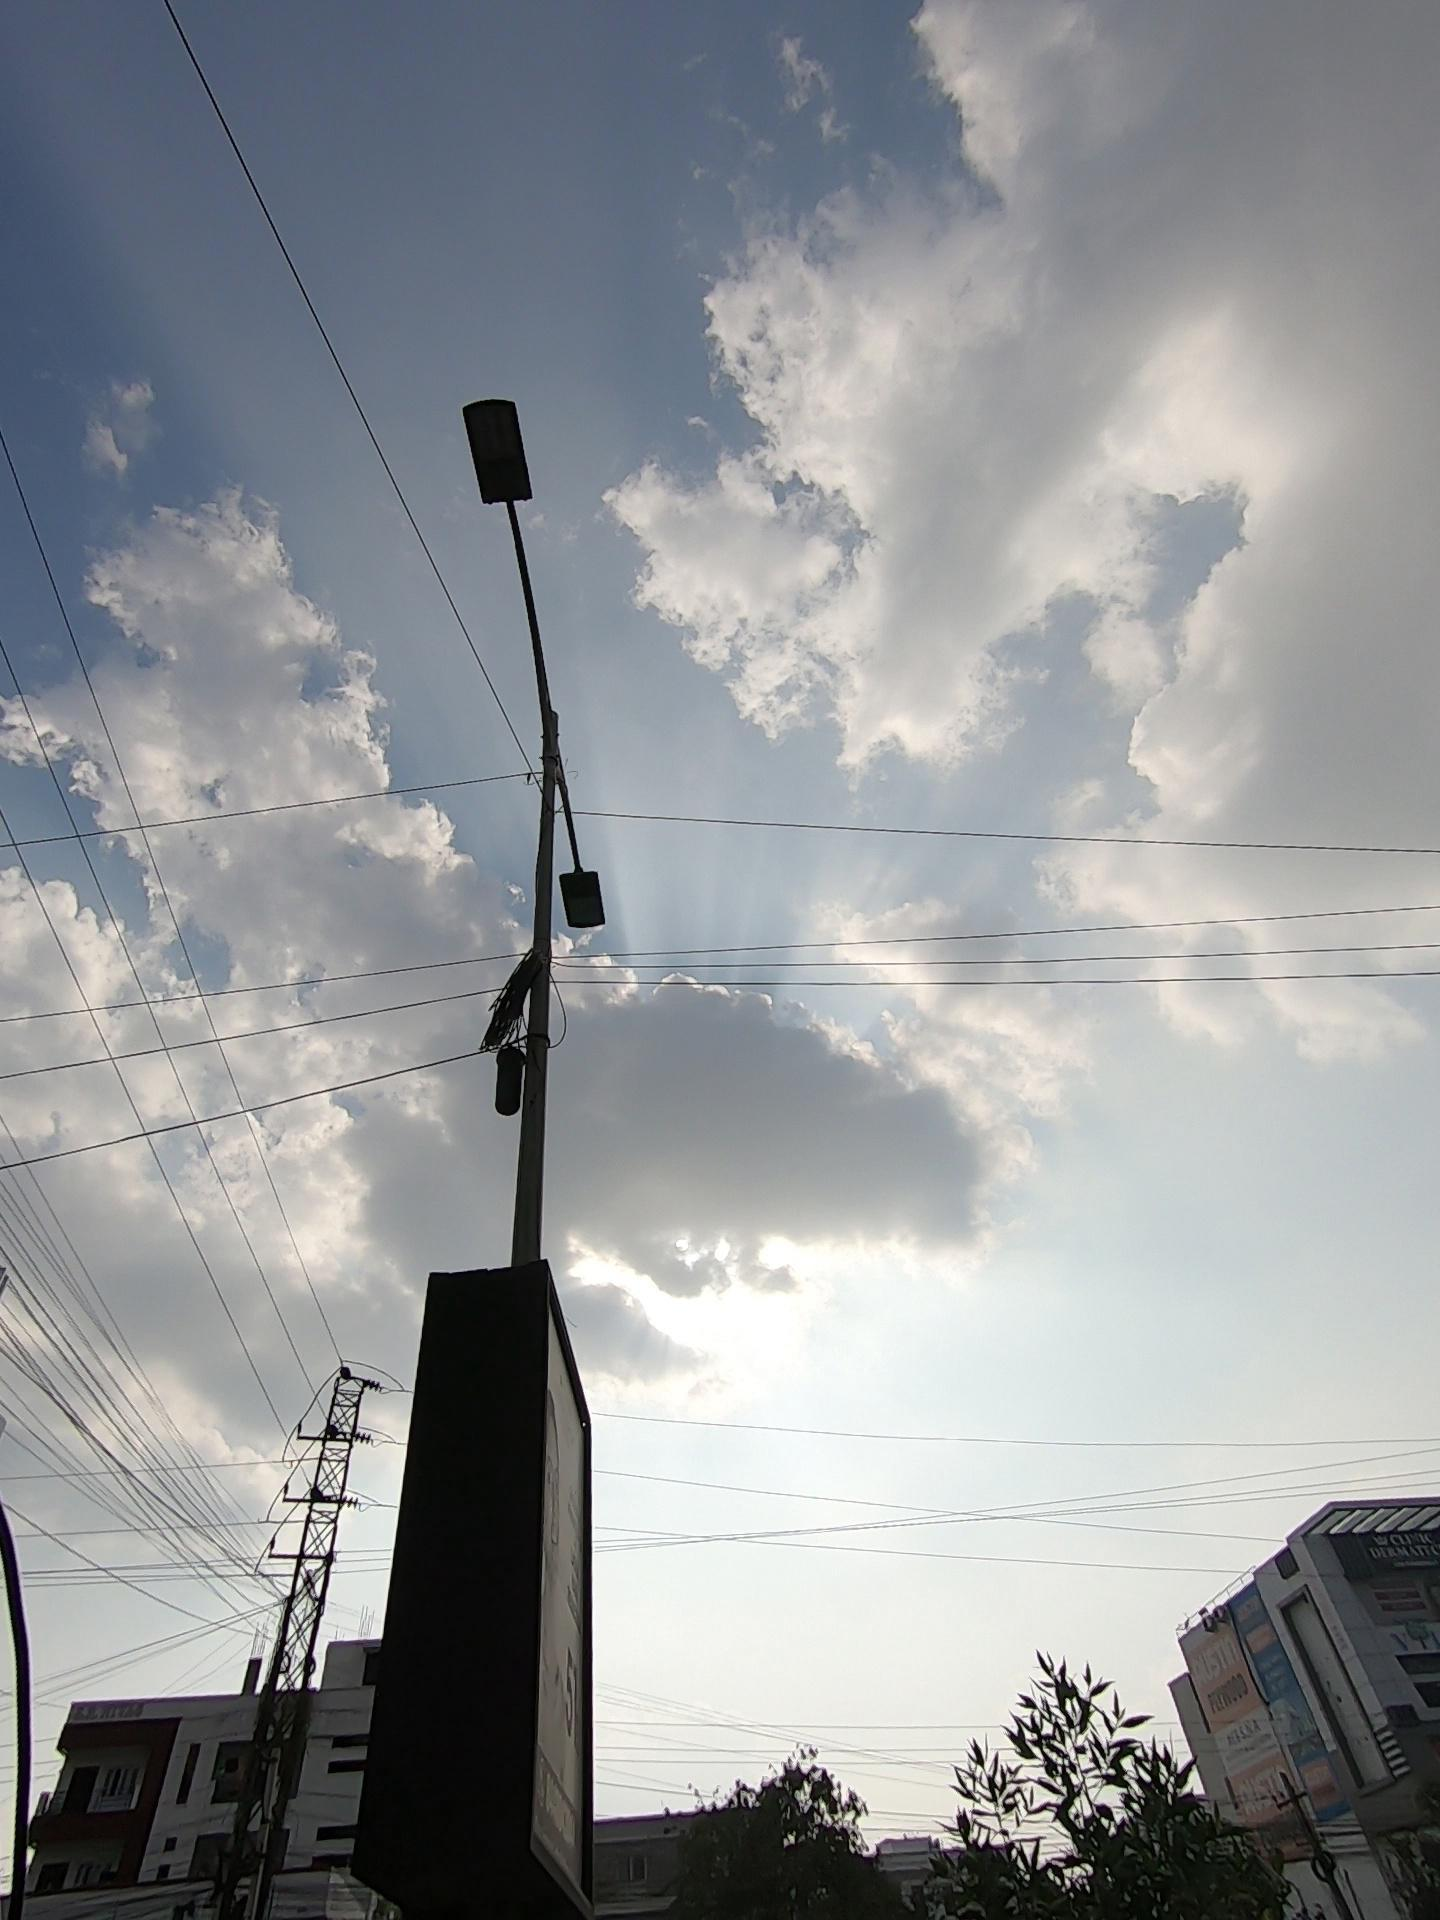off: (421, 342, 720, 968)
